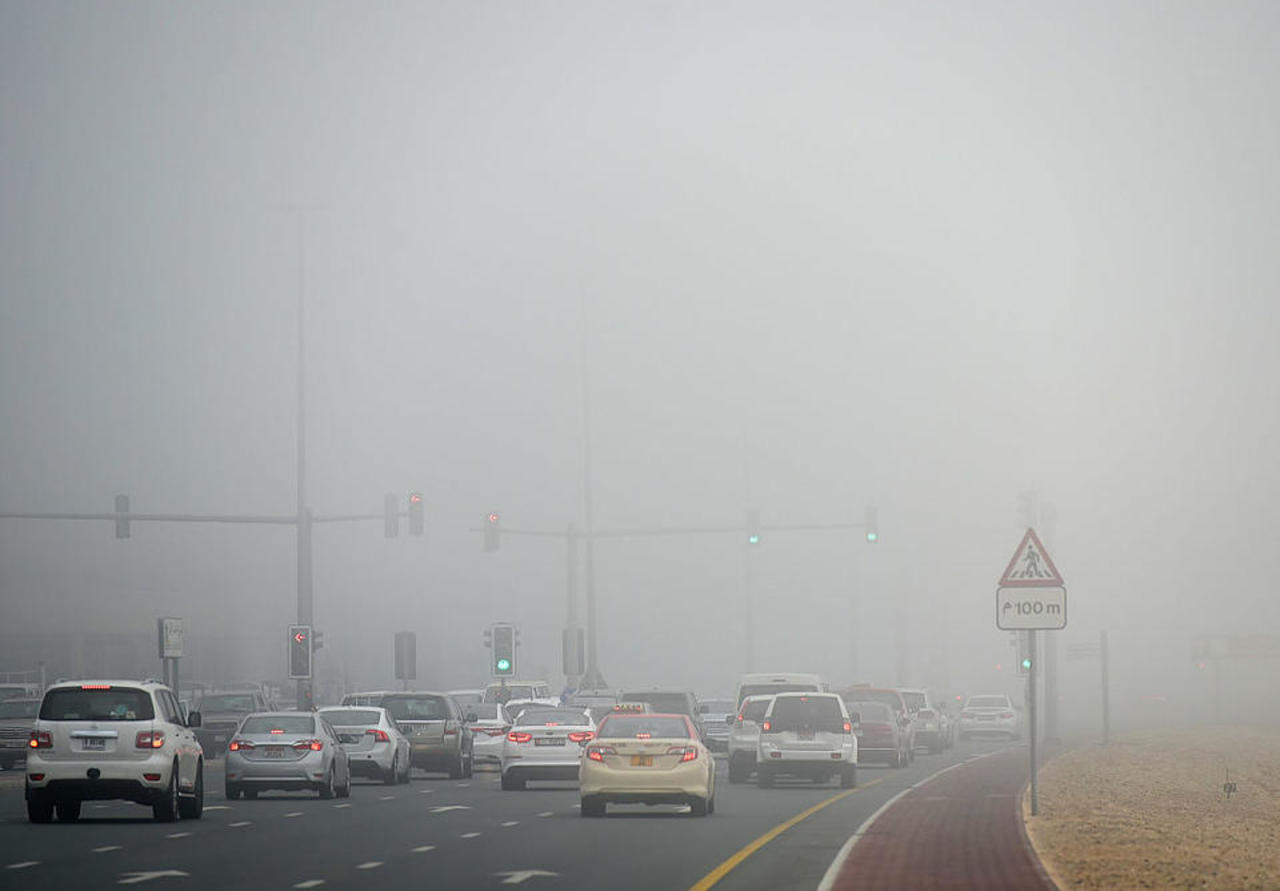car: (23, 675, 208, 823), (573, 710, 722, 820), (222, 712, 350, 800), (759, 688, 856, 783), (495, 708, 597, 787), (381, 695, 475, 777), (316, 706, 414, 782), (185, 688, 271, 754), (848, 697, 915, 766), (726, 694, 768, 781), (2, 694, 47, 770), (953, 693, 1020, 740), (904, 684, 944, 749), (470, 699, 502, 771)
